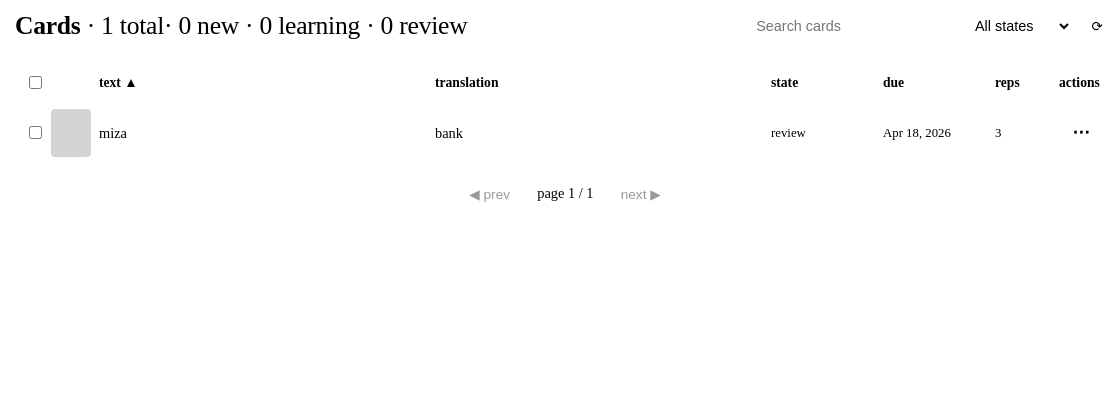
Test: cards/+page.svelte › clicking Cancel during edit closes the edit row without saving
The width and height of the screenshot is (1120, 394).
Expected: the text "miza" is shown, [99,124,127,140]
Click the button "⋯": {"x": 1081, "y": 133} [1059,119,1103,147]
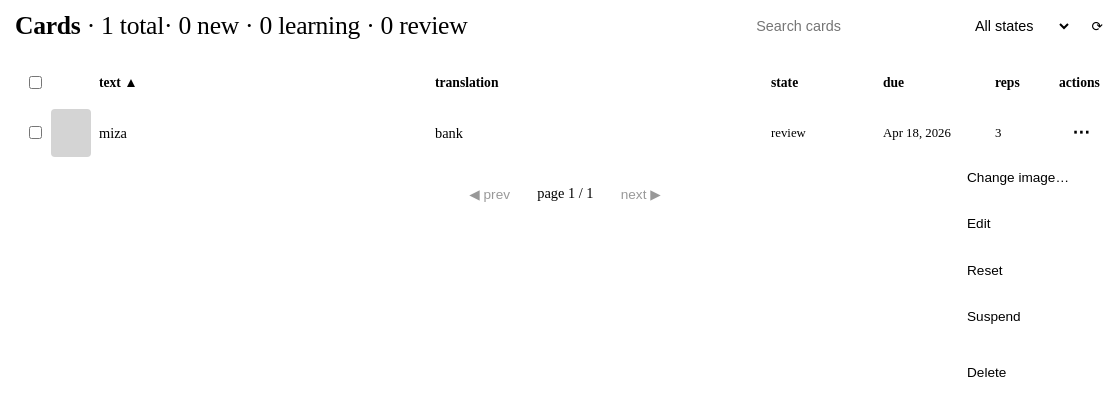
Click the menu item "Edit": {"x": 1027, "y": 224} [955,202,1099,246]
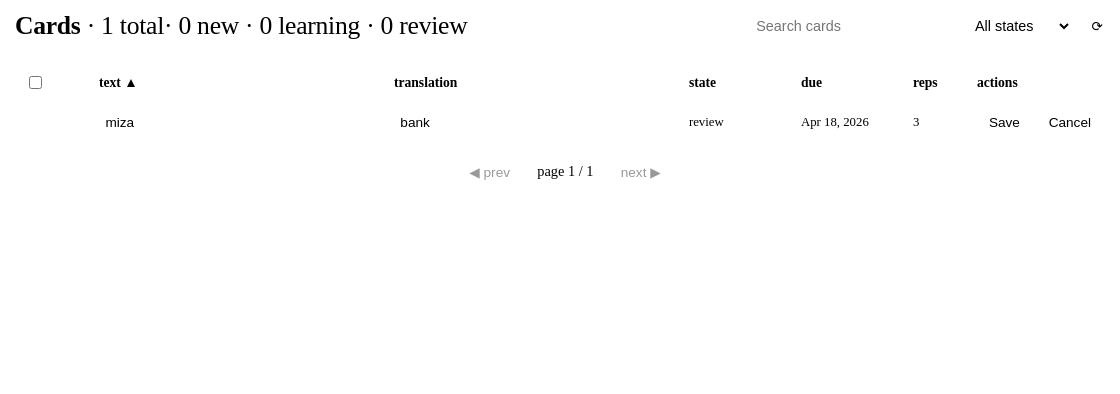
Expected: the button "Cancel" is shown
Click the button "Cancel": {"x": 1070, "y": 122} [1037,109,1103,135]
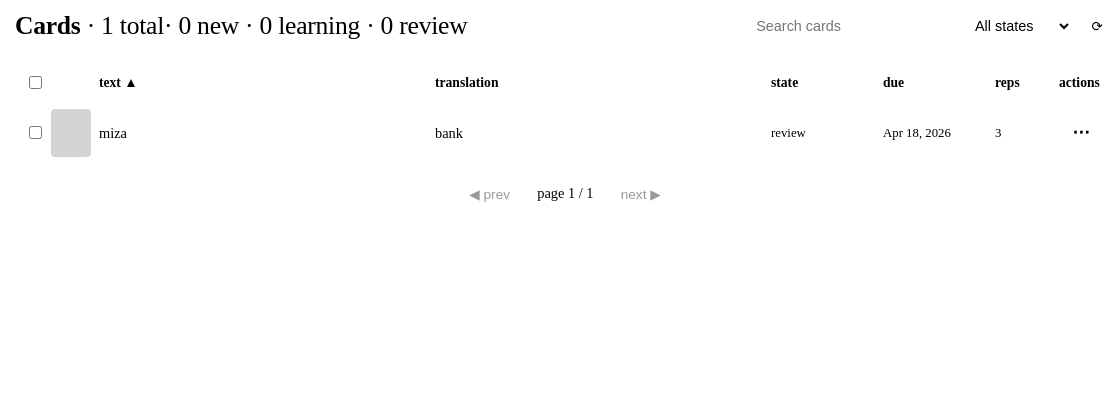
Expected: the text "miza" is shown, [99,124,127,140]
